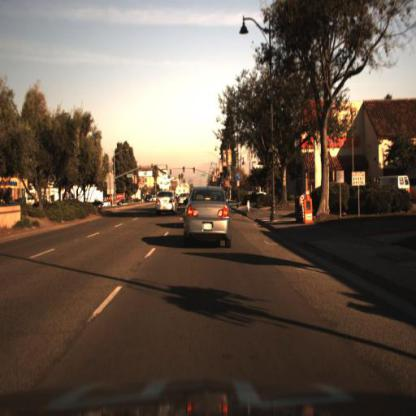car: (180, 179, 234, 249), (376, 168, 410, 198), (154, 189, 177, 216), (88, 196, 102, 208)
